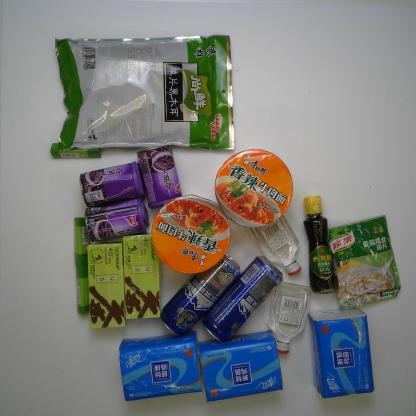Alcohol: (203, 255, 284, 344), (159, 251, 241, 337), (246, 211, 303, 277), (267, 280, 312, 356)
Canned Food: (77, 161, 145, 208), (84, 197, 151, 243), (136, 145, 184, 209)
Dried Food: (52, 34, 236, 153)
Instant Drink: (86, 242, 126, 331), (122, 233, 161, 320)
Instant Noodles: (149, 194, 232, 275), (214, 148, 296, 228)
Seasoner: (326, 214, 402, 311), (300, 195, 340, 295)
Stationery: (50, 143, 102, 160), (73, 216, 90, 266), (74, 265, 90, 314)
Tissue: (304, 307, 375, 401), (198, 329, 284, 404), (117, 331, 203, 404)
